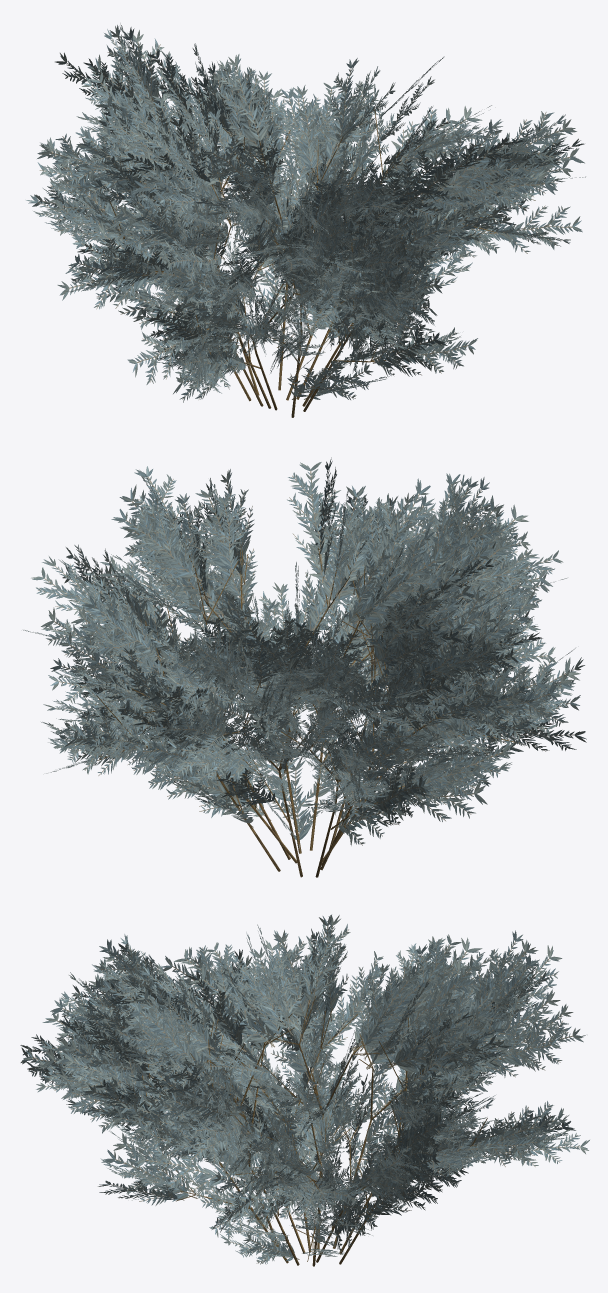
File: sagebrush_grey_v02_LOD1.fbx
3 views of the same model, one above another, from view 1: azimuth 30°, elevation 25°; view 2: azimuth 150°, elevation 25°; view 3: azimuth 270°, elevation 25° (orthographic). The views are drawn at different scales.
Parts seen in each view (by area): view 1: sagebrush_grey_v02_LOD1; view 2: sagebrush_grey_v02_LOD1; view 3: sagebrush_grey_v02_LOD1.
Part boxes in pixels (x1,y1,x2,y2): sagebrush_grey_v02_LOD1: [26, 23, 585, 417]; sagebrush_grey_v02_LOD1: [23, 457, 586, 877]; sagebrush_grey_v02_LOD1: [20, 914, 589, 1266].
Size of the model in its own units: 135 by 85 by 138.
Materials: 2 (2 with a texture image).
